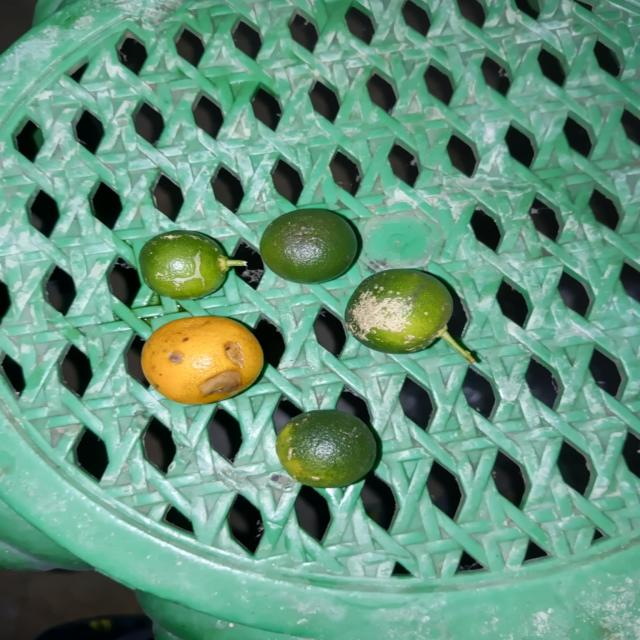black spot: (141, 315, 269, 404)
scab: (134, 230, 228, 299)
